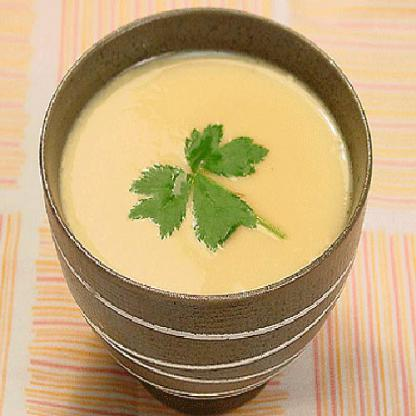Kaithoon: (57, 48, 362, 325)
